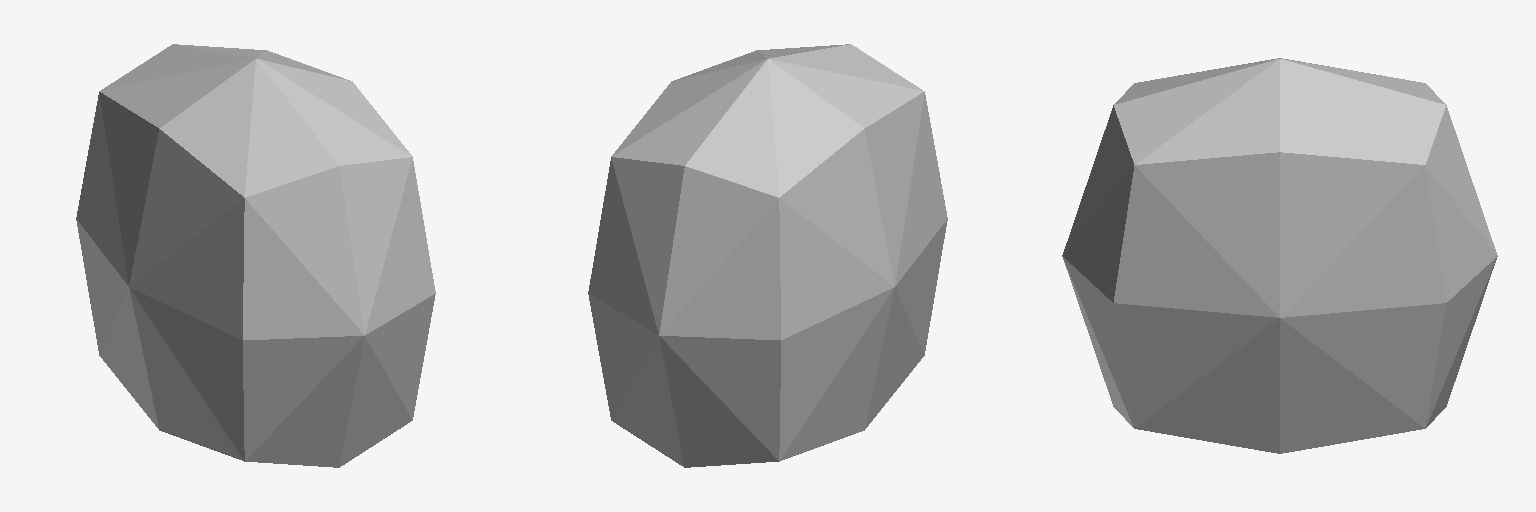
Rendered from bullet.obj.
3 renders of one model, left to right at view 1: azimuth 30°, elevation 25°; view 2: azimuth 150°, elevation 25°; view 3: azimuth 270°, elevation 25°, orthographic.
Parts seen in each view (by area): view 1: Cube; view 2: Cube; view 3: Cube.
Boxes of the visible parts, x1=… form: Cube: x1=76, y1=44, x2=435, y2=467; Cube: x1=588, y1=44, x2=947, y2=467; Cube: x1=1062, y1=58, x2=1497, y2=453.
Size of the model in its own units: 0.5629 by 0.8361 by 0.8361.